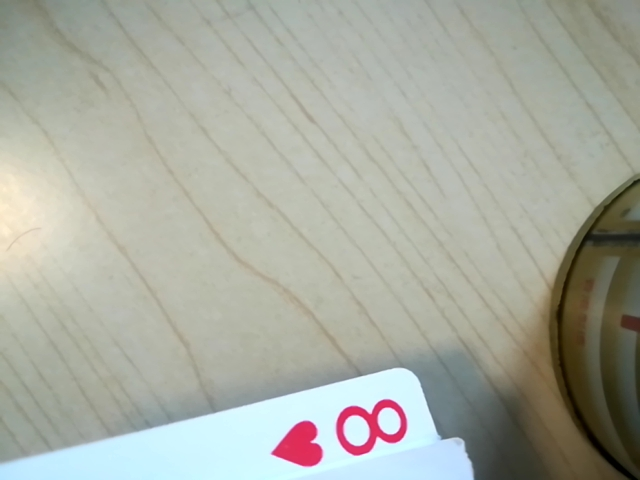hx 8: (286, 387, 432, 471)
